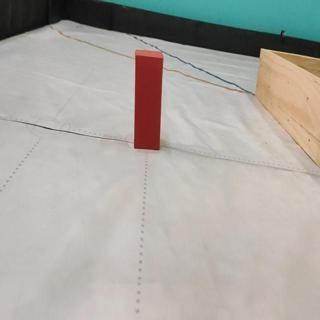redbox: (133, 48, 165, 149)
